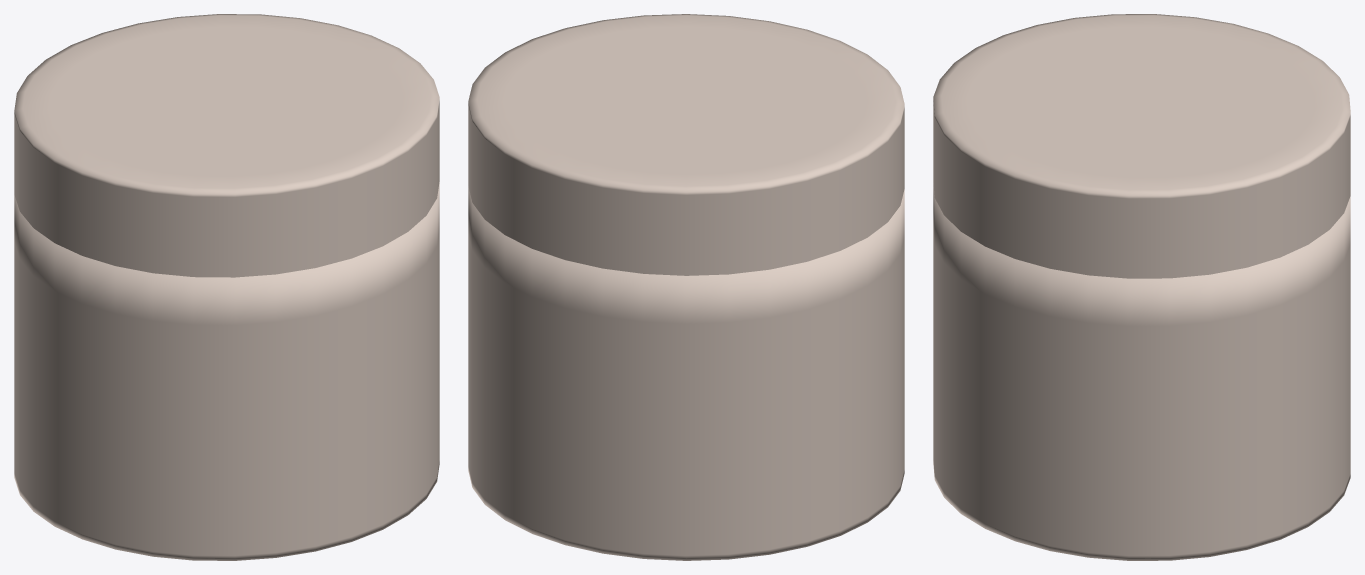
The model's file is 1-tier-white-none-none.glb.
The picture shows the model from 3 angles, left to right: view 1: azimuth 30°, elevation 25°; view 2: azimuth 150°, elevation 25°; view 3: azimuth 270°, elevation 25°; orthographic projection.
Visible parts, largest first — view 1: Cylinder.019; view 2: Cylinder.019; view 3: Cylinder.019.
Part boxes in pixels (<box>): Cylinder.019: <box>14,14,439,560</box>; Cylinder.019: <box>468,14,904,560</box>; Cylinder.019: <box>933,14,1350,560</box>.
Bounding box in the file's own units: 2.63 × 2.48 × 2.55.
